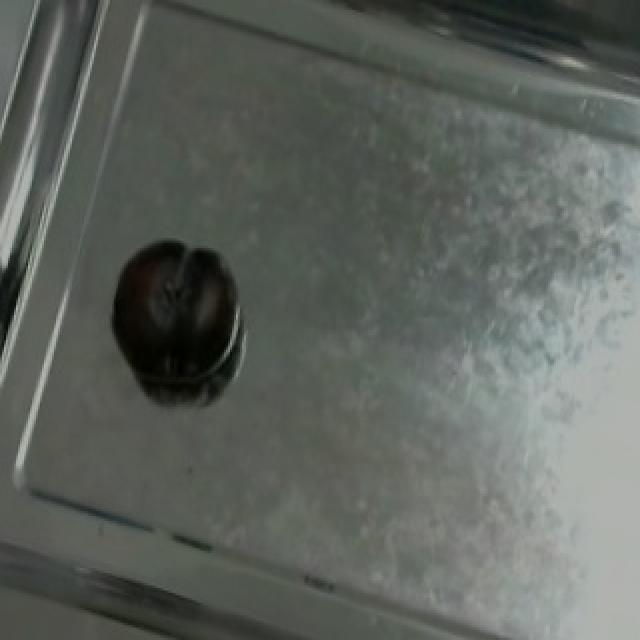Fruit: (94, 226, 246, 399)
